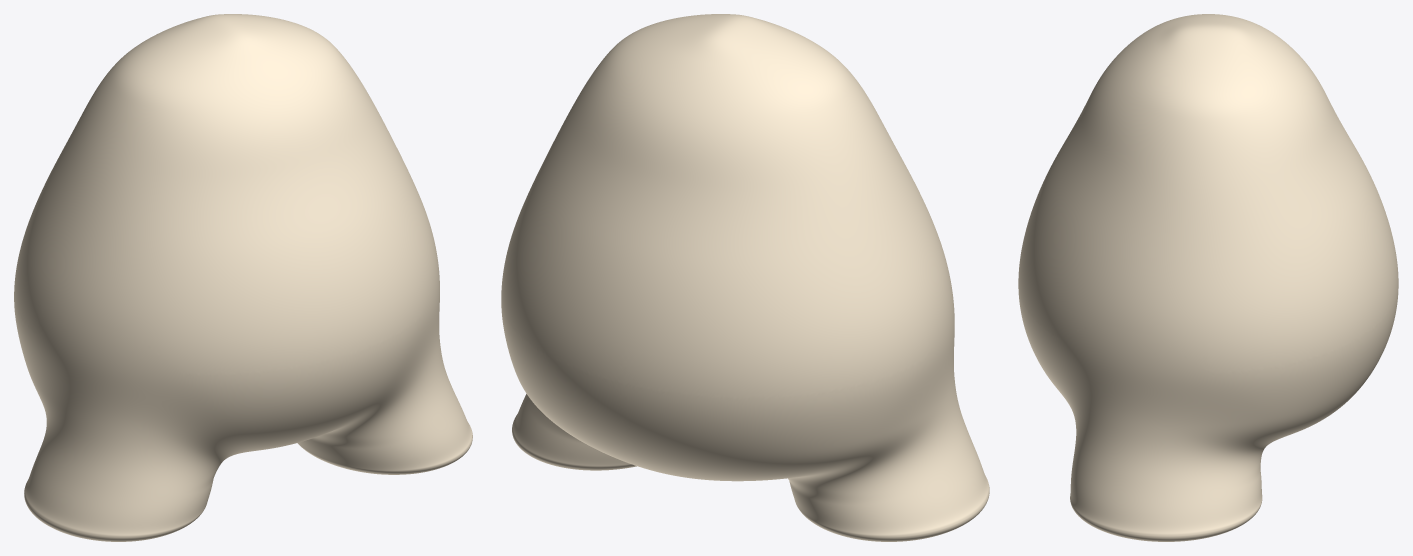
Rendered from body.glb.
The picture shows the model from 3 angles, left to right: view 1: azimuth 30°, elevation 25°; view 2: azimuth 150°, elevation 25°; view 3: azimuth 270°, elevation 25°; orthographic projection. The views are drawn at different scales.
Parts seen in each view (by area): view 1: Body_DesignV8; view 2: Body_DesignV8; view 3: Body_DesignV8.
Boxes of the visible parts, box(x1,y1,x2,y2) form: Body_DesignV8: box(14, 14, 472, 541); Body_DesignV8: box(501, 14, 989, 541); Body_DesignV8: box(1018, 14, 1398, 541).
Bounding box in the file's own units: 44.26 × 44.55 × 35.99.
